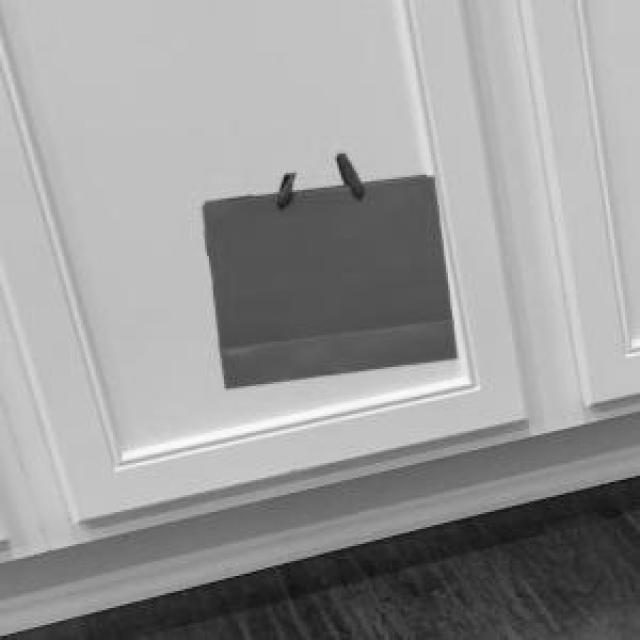paper: (196, 149, 452, 384)
